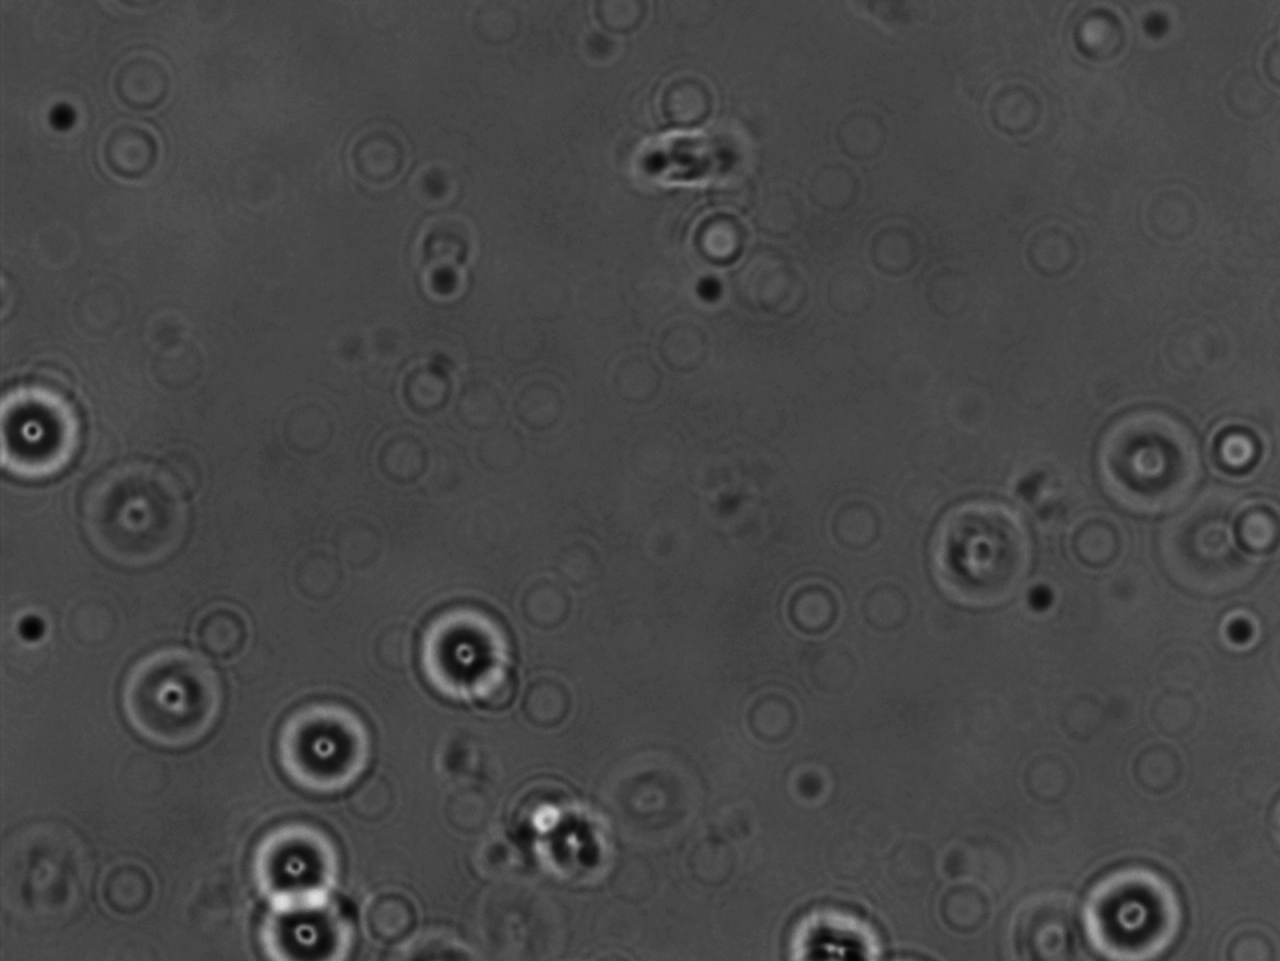depth:-8: (406, 586, 533, 711), (103, 641, 235, 758), (261, 688, 387, 806), (1073, 848, 1196, 960), (239, 795, 346, 905), (775, 888, 908, 961), (251, 881, 363, 961)
